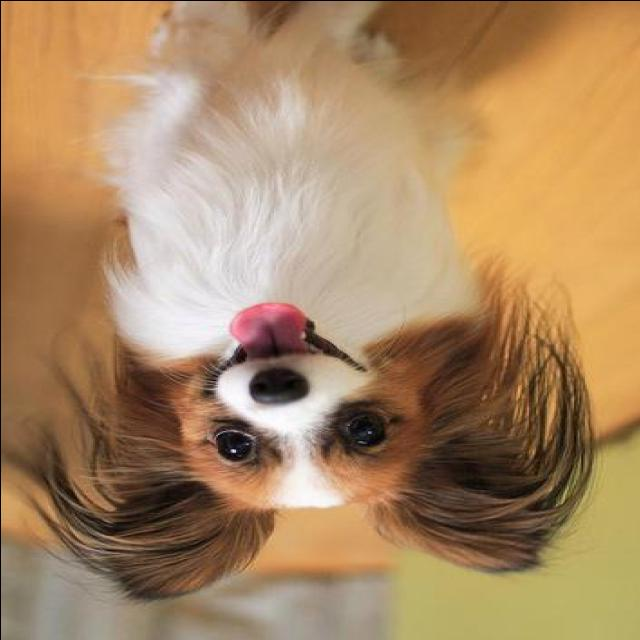papillon: (0, 2, 591, 604)
